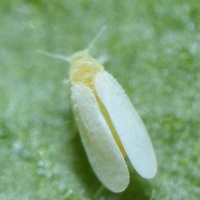insect: (43, 48, 156, 192)
